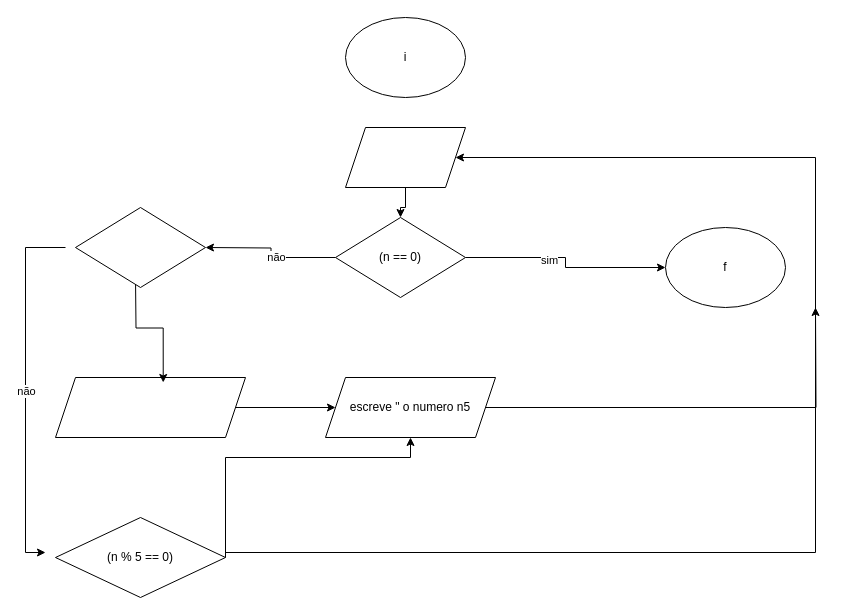
This 842x615 diagram has some shape labels left out. Each missing label, with the centre of its shape:
(n % 3 == 0): point (140, 247)
escreve"o numero n 3: point (150, 407)
ler numero: point (405, 157)
